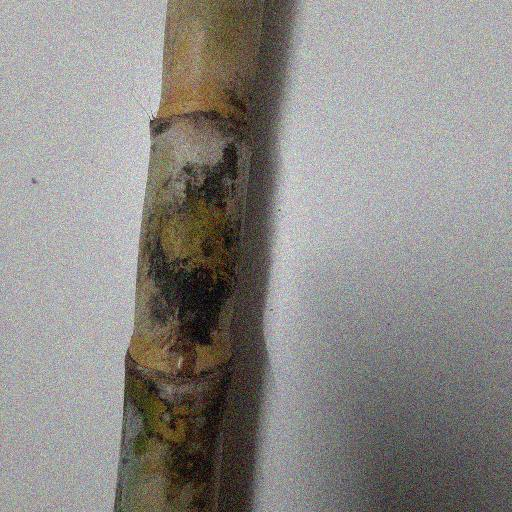Bud: (173, 351, 193, 377)
